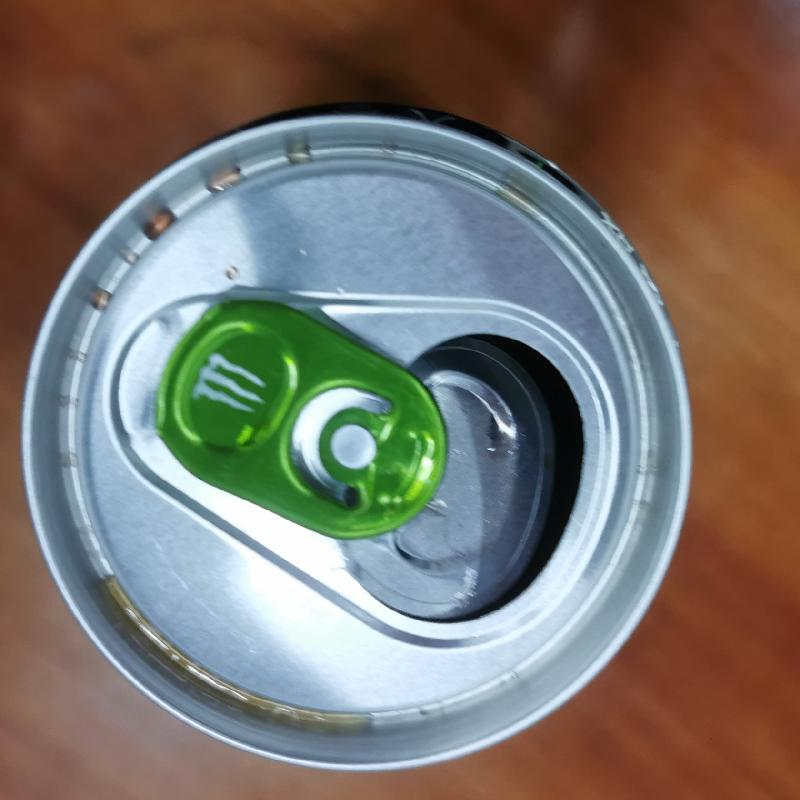cans: (28, 103, 698, 770)
